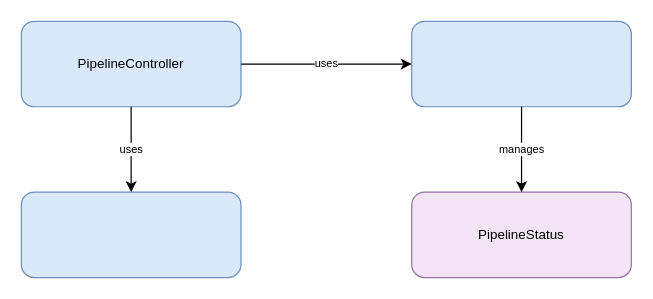
Image size: 653x299. Some labels were removed from this diagram. The shapes that lost their labels are listed below. From the top down, each one's box as (x1, y1, x2, y2) in pixels, then its label:
(411, 20, 631, 107): StatusManager
(20, 191, 241, 278): BAAgentService
